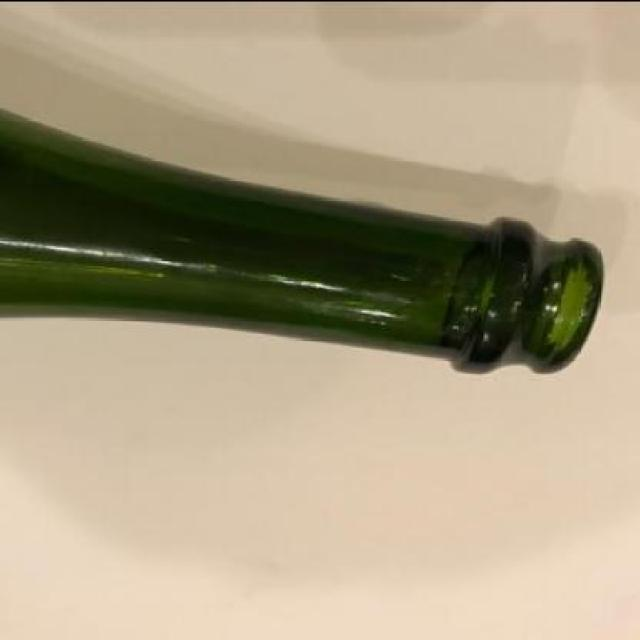glass: (2, 109, 606, 374)
